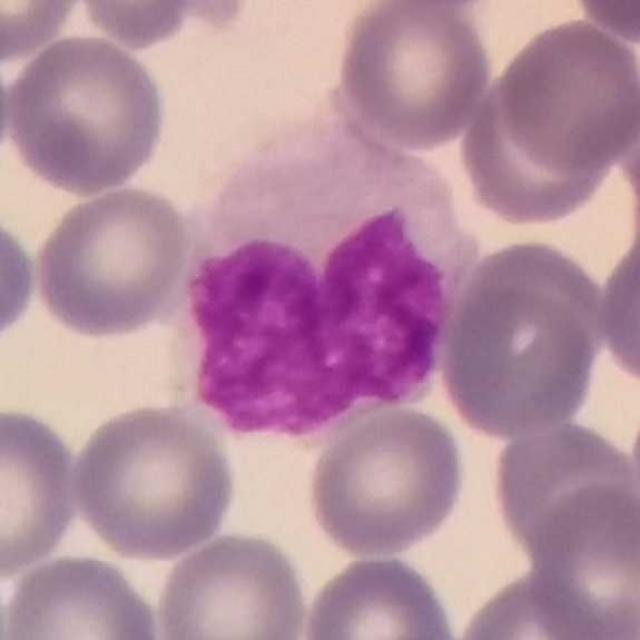mono: (171, 77, 483, 456)
